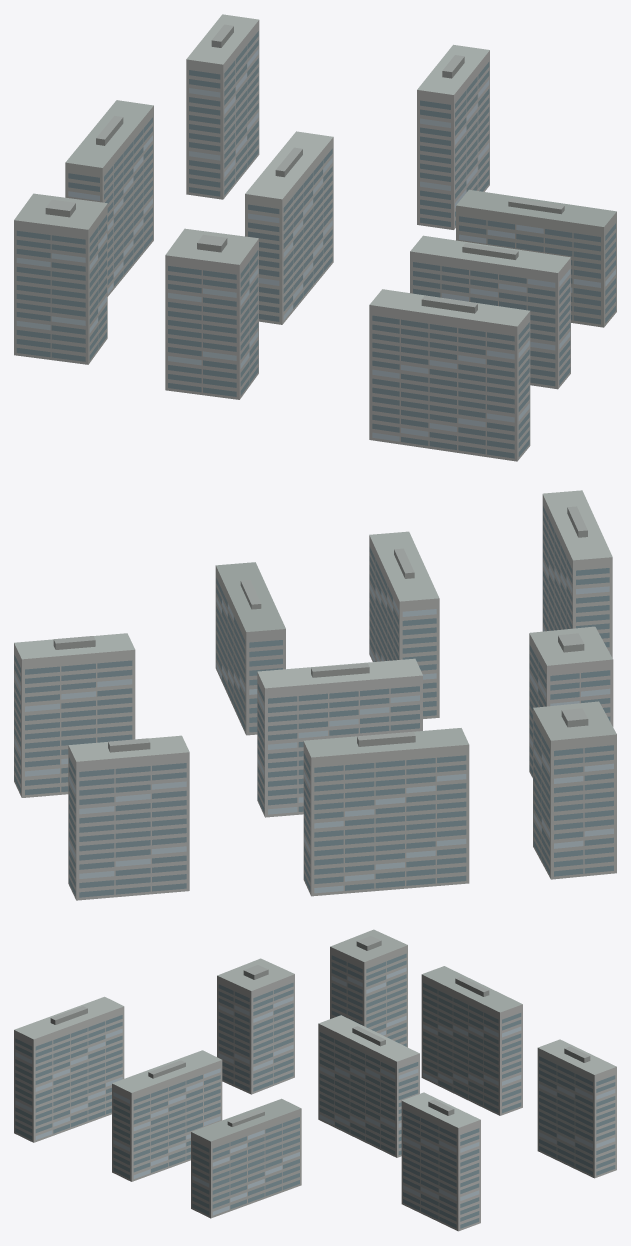
Rendered from apt-a13974101.glb.
3 renders of one model, top to bottom at view 1: azimuth 30°, elevation 25°; view 2: azimuth 150°, elevation 25°; view 3: azimuth 270°, elevation 25°, orthographic. The views are drawn at different scales.
Parts seen in each view (by area): view 1: apt-a13974101; view 2: apt-a13974101; view 3: apt-a13974101.
Part boxes in pixels (left/top/right/bottom): apt-a13974101: left=14, top=14, right=616, bottom=461; apt-a13974101: left=14, top=490, right=616, bottom=900; apt-a13974101: left=14, top=929, right=616, bottom=1231.
Bounding box in the file's own units: 169 × 43 × 217.
